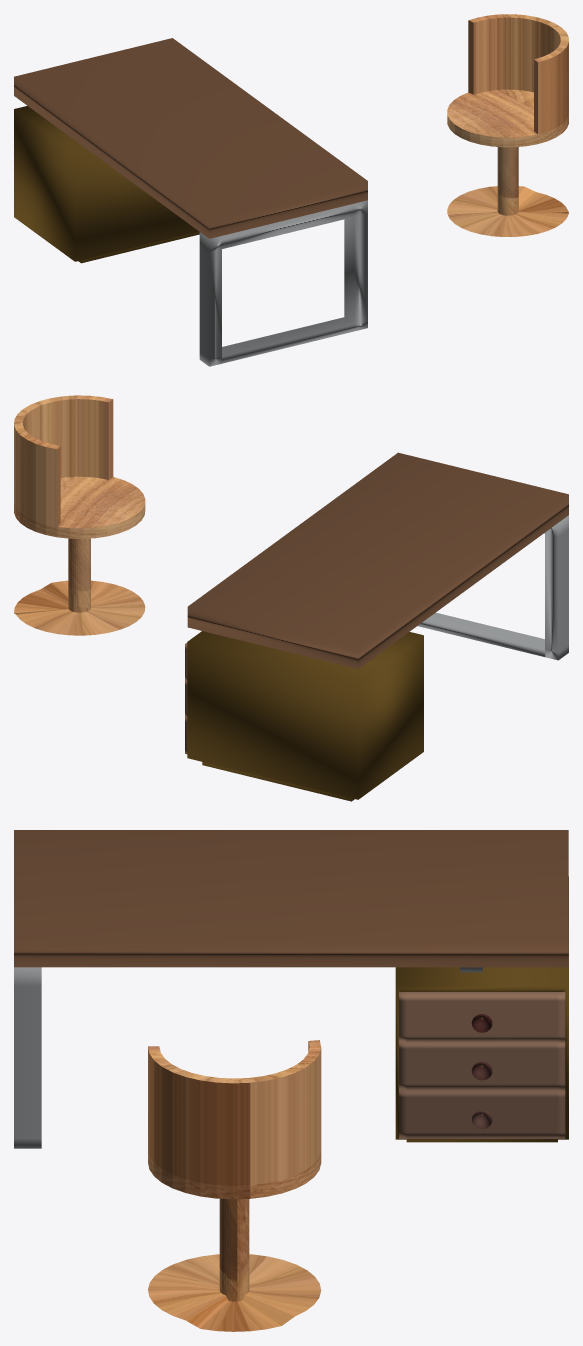
The picture shows the model from 3 angles, top to bottom: view 1: azimuth 30°, elevation 25°; view 2: azimuth 150°, elevation 25°; view 3: azimuth 270°, elevation 25°; orthographic projection. The views are drawn at different scales.
Visible parts, largest first — view 1: table, chaise, box, Cube.005; view 2: table, box, chaise, Cube.005; view 3: table, chaise, box1, box3, box2, box, Cube.005.
Part boxes in pixels (x1=…): table: x1=14, y1=38, x2=367, y2=238; chaise: x1=447, y1=14, x2=568, y2=236; box: x1=14, y1=106, x2=199, y2=263; Cube.005: x1=199, y1=200, x2=367, y2=366; table: x1=187, y1=452, x2=568, y2=668; box: x1=187, y1=631, x2=423, y2=801; chaise: x1=14, y1=395, x2=145, y2=635; Cube.005: x1=418, y1=515, x2=568, y2=660; table: x1=14, y1=830, x2=568, y2=967; chaise: x1=148, y1=1040, x2=321, y2=1331; box1: x1=399, y1=992, x2=565, y2=1042; box3: x1=399, y1=1090, x2=565, y2=1138; box2: x1=399, y1=1042, x2=565, y2=1090; box: x1=395, y1=876, x2=568, y2=1142; Cube.005: x1=14, y1=967, x2=482, y2=1148.
Size of what is drawn, in the model's own units: 8.12 by 3.26 by 6.4.
Materials: 10 (1 with a texture image).
